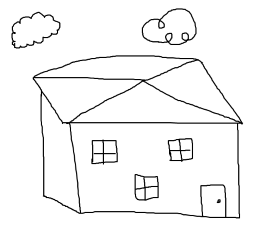closed_window: (91, 138, 119, 165), (133, 173, 159, 200), (167, 138, 194, 162)
clouds: (139, 6, 198, 46), (11, 10, 61, 50)
door: (195, 176, 230, 221)
roof: (32, 54, 243, 124)
wall: (67, 118, 241, 218)
